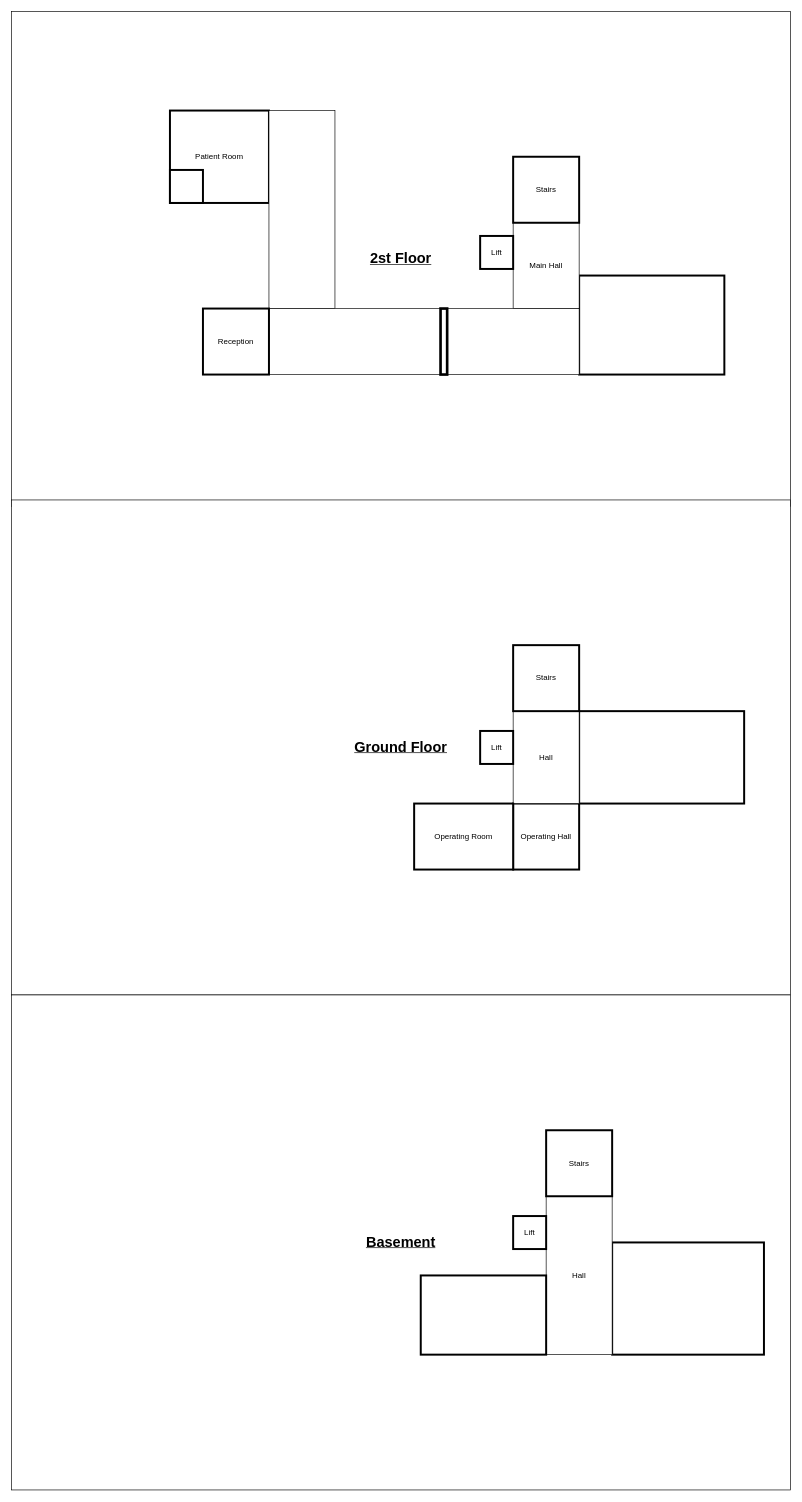
Image size: 802x1502. Some labels were removed from this diagram. The centre of each missing label's shape, as x and y in pixels:
Cafeteria ( Don't Open Dead Inside ): point 651,324
Cafeteria Hall: point 512,341
Morgue: point 483,1314
Outside: point 661,757
Patient Room Corridor: point 301,209
Reception Hall: point 354,341
Storage Room: point 688,1298
WC: point 186,186
